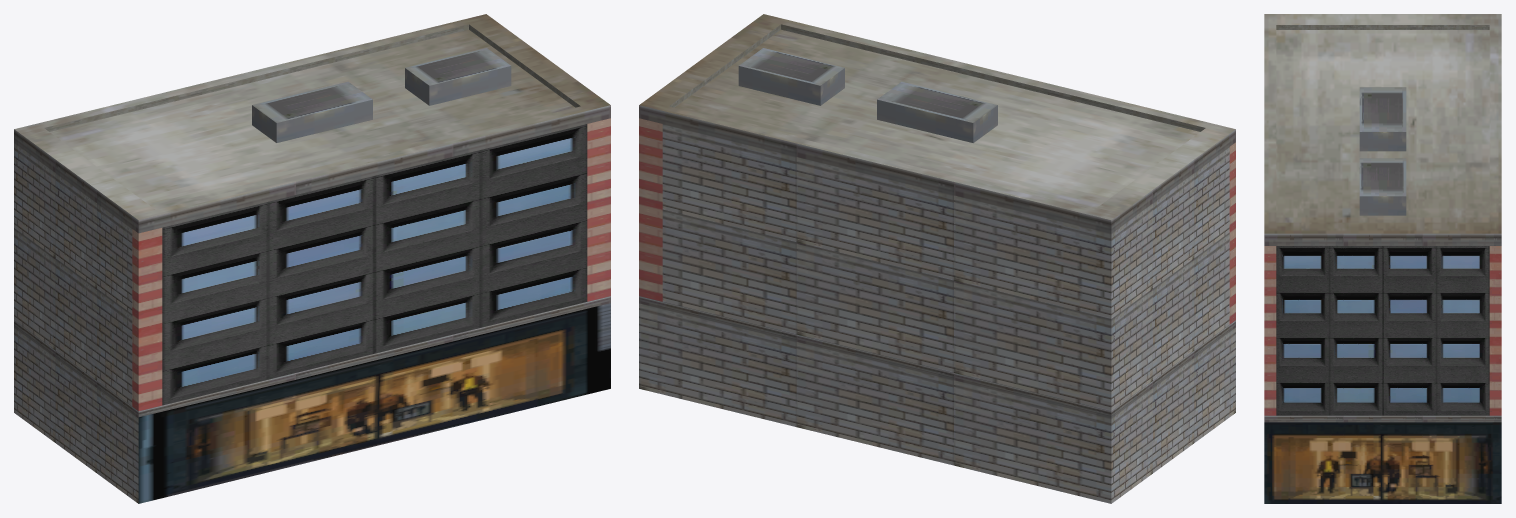
File: house26_1.fbx
3 views of the same model, side by side, from view 1: azimuth 30°, elevation 25°; view 2: azimuth 150°, elevation 25°; view 3: azimuth 270°, elevation 25° (orthographic). The views are drawn at different scales.
Parts seen in each view (by area): view 1: house26_1; view 2: house26_1; view 3: house26_1.
Part boxes in pixels (x1=…): house26_1: x1=14, y1=14, x2=610, y2=503; house26_1: x1=639, y1=14, x2=1235, y2=503; house26_1: x1=1264, y1=14, x2=1501, y2=503.
Bounding box in the file's own units: 27.11 × 16.37 × 12.38.
